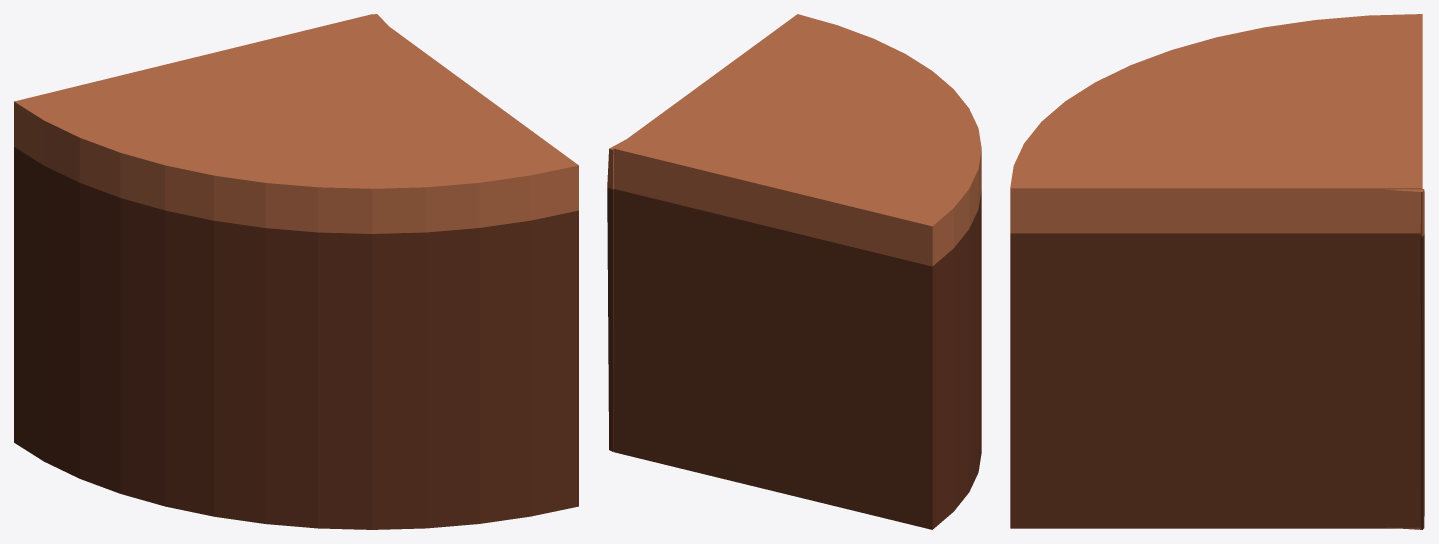
File: base_1unit_corner_asset.fbx
3 views of the same model, side by side, from view 1: azimuth 30°, elevation 25°; view 2: azimuth 150°, elevation 25°; view 3: azimuth 270°, elevation 25° (orthographic). The views are drawn at different scales.
Parts seen in each view (by area): view 1: Plane.133; view 2: Plane.133; view 3: Plane.133.
Boxes of the visible parts, x1,y1,x2,y2 form: Plane.133: (14,14,578,529); Plane.133: (607,14,981,529); Plane.133: (1010,14,1424,529).
Size of the model in its own units: 51.01 by 45.51 by 50.25.
Materials: 1 (1 with a texture image).
